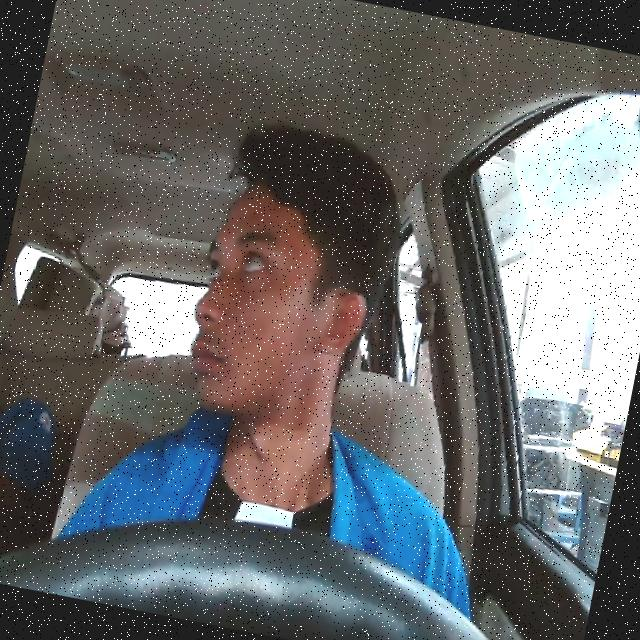seeing_left: (176, 173, 387, 434)
